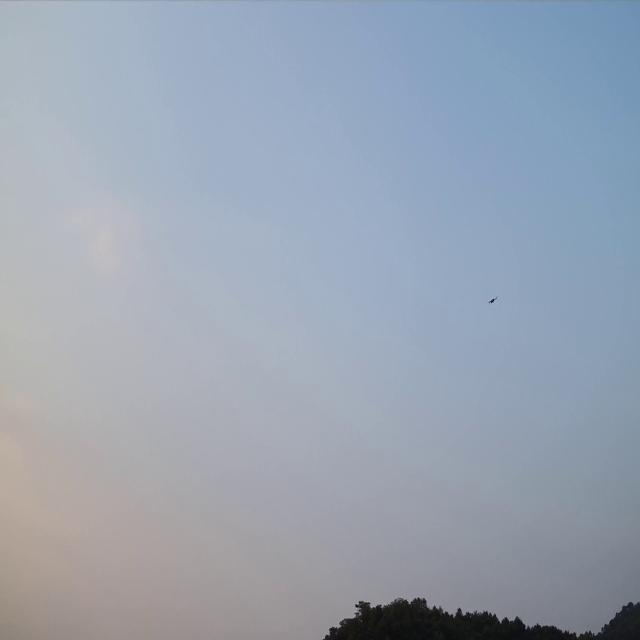UAV: (488, 294, 498, 307)
